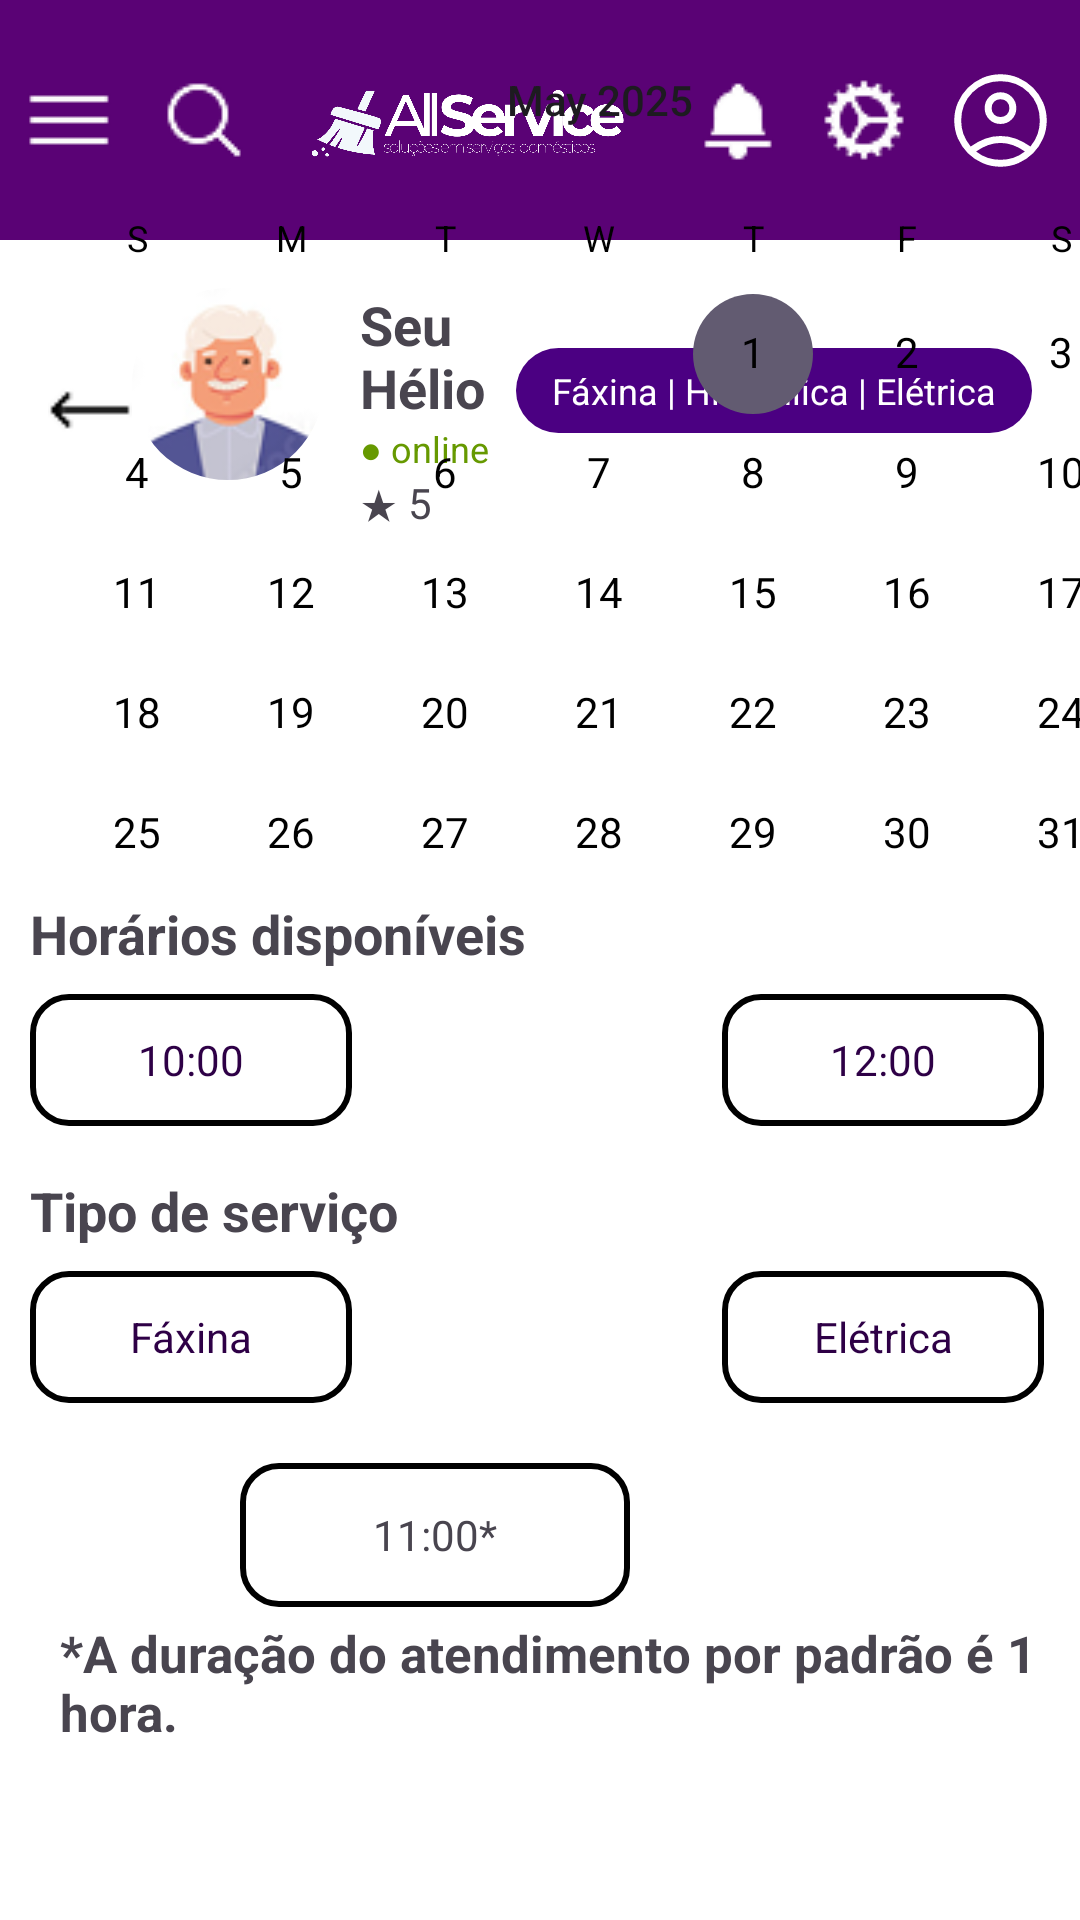

Where to tap for icons on this 1080*1920 app screen, as point (x, y):
left arrow: point (90, 410)
menu: point (69, 120)
notification: point (738, 121)
person: point (1000, 120)
search: point (204, 120)
settings: point (864, 120)
